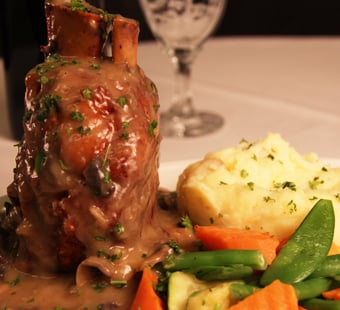curry: (0, 7, 340, 308)
sandwich: (139, 1, 228, 139)
